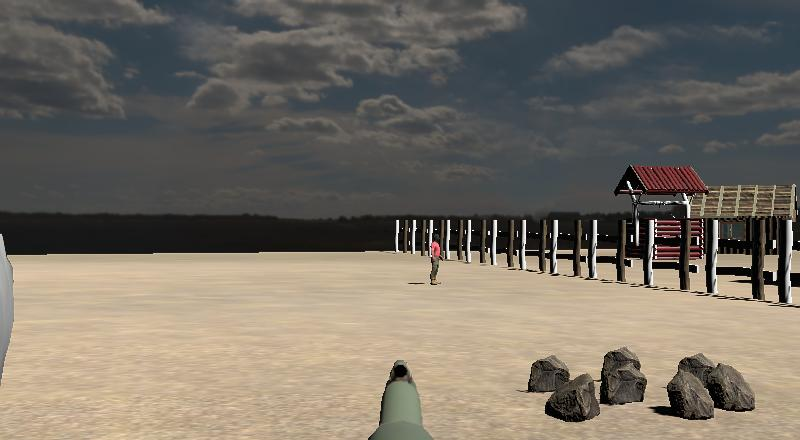Human: (429, 235, 444, 286)
